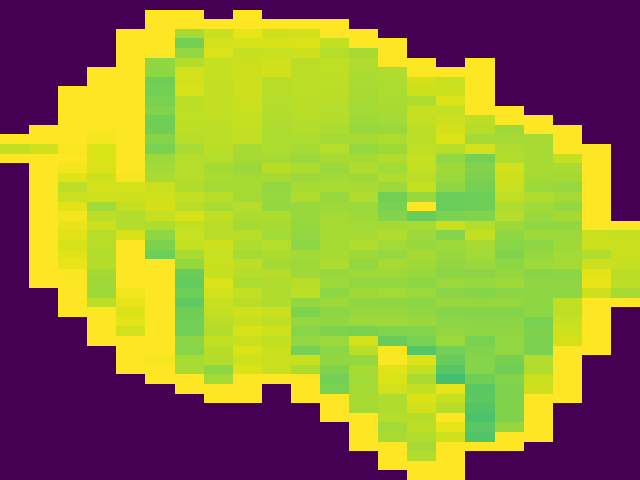car_0027: (1, 1, 640, 477)
